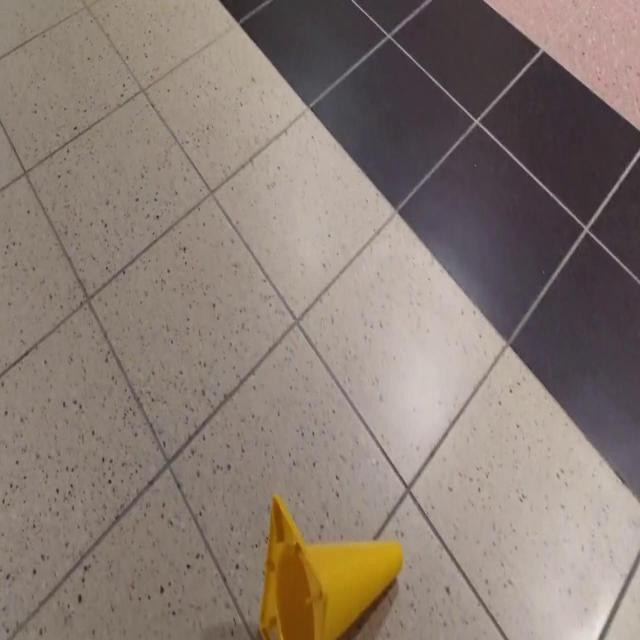frc_cone: (257, 491, 404, 640)
